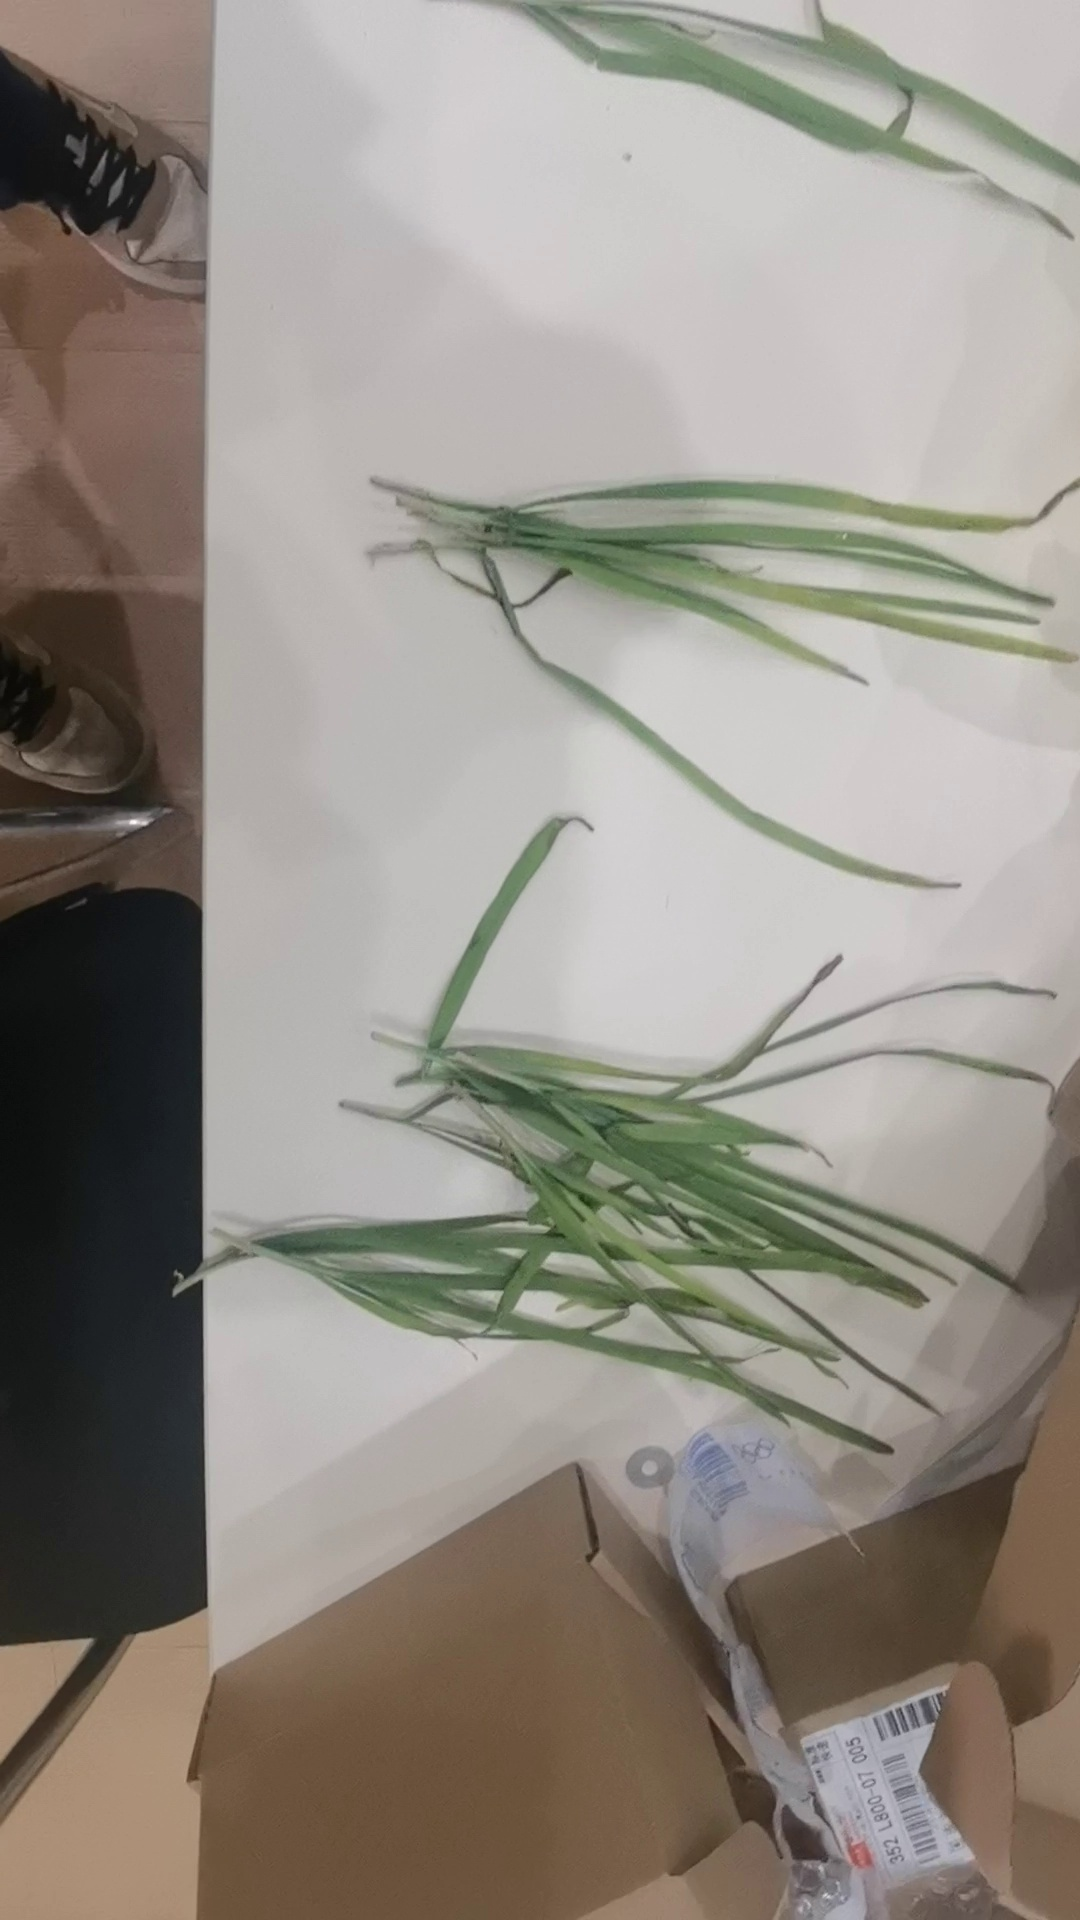chives: (194, 819, 1058, 1458), (280, 382, 1080, 895), (475, 4, 1080, 233)
